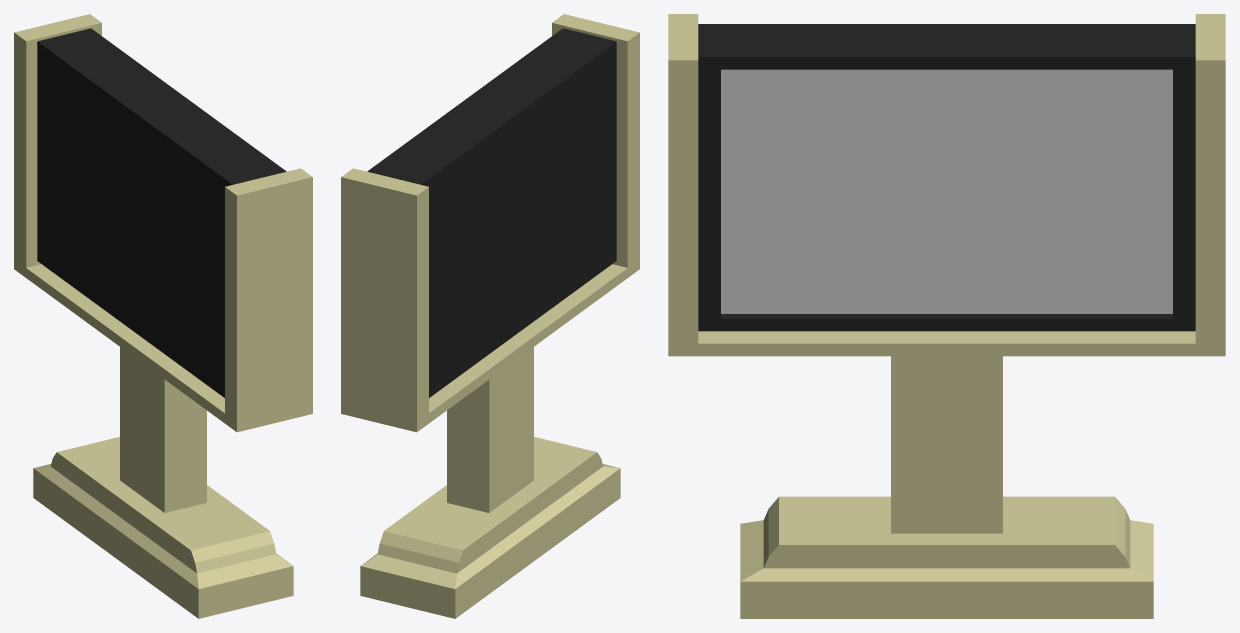
Rendered from videotron.fbx.
The picture shows the model from 3 angles, left to right: view 1: azimuth 30°, elevation 25°; view 2: azimuth 150°, elevation 25°; view 3: azimuth 270°, elevation 25°; orthographic projection. The views are drawn at different scales.
Parts seen in each view (by area): view 1: Cube, Cube.001; view 2: Cube, Cube.001; view 3: Cube.001, Cube.
Part boxes in pixels (left/top/right/bottom): Cube: left=14, top=14, right=312, bottom=618; Cube.001: left=37, top=28, right=286, bottom=397; Cube: left=341, top=14, right=639, bottom=618; Cube.001: left=367, top=28, right=616, bottom=397; Cube.001: left=698, top=24, right=1195, bottom=331; Cube: left=668, top=14, right=1225, bottom=618.
Size of the model in its own units: 2.16 by 9.6 by 8.78.
